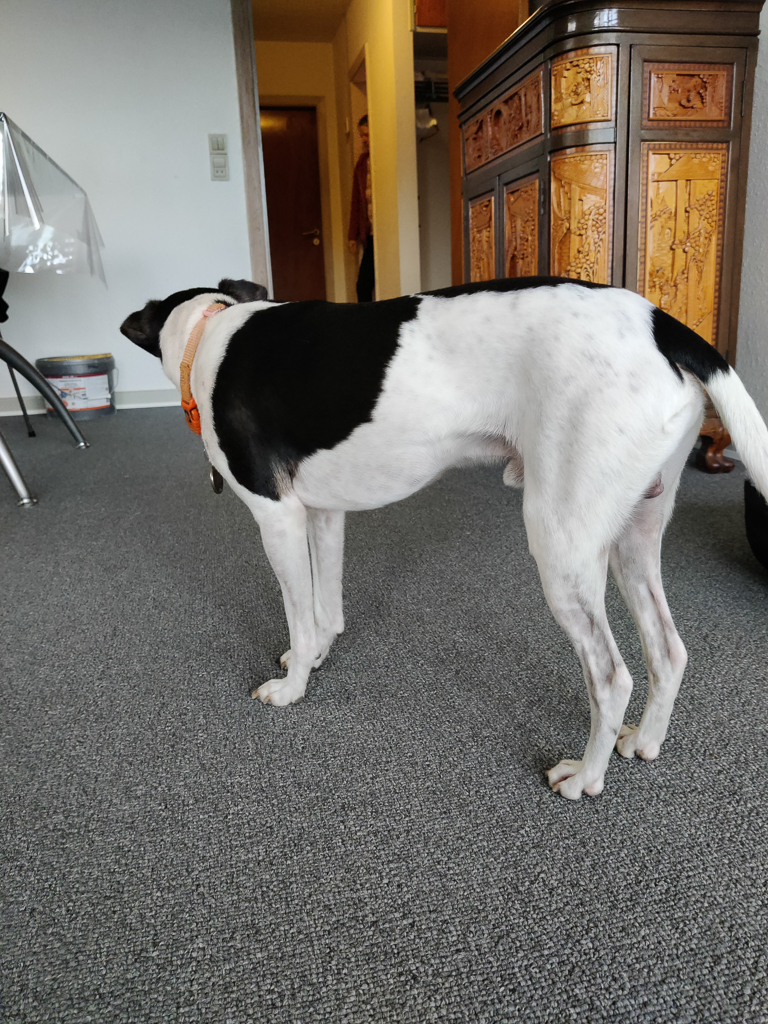Dog: (105, 251, 768, 810)
Humanoid: (340, 108, 390, 306)
